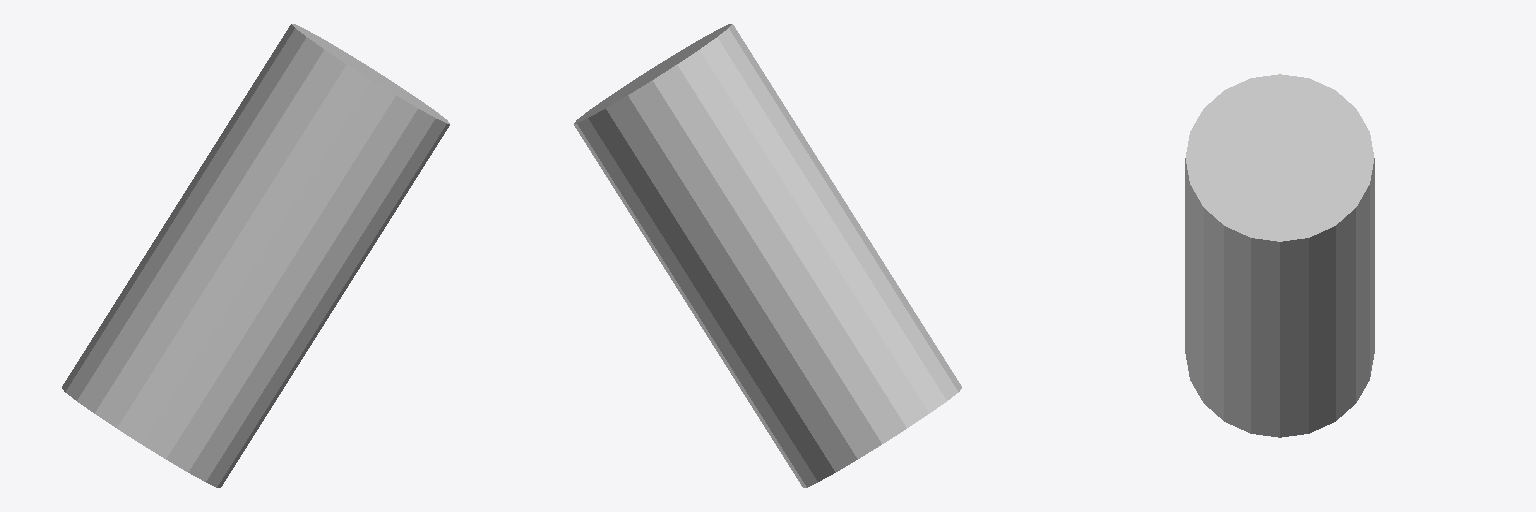
The model's file is player_Rarm_up.obj.
3 renders of one model, left to right at view 1: azimuth 30°, elevation 25°; view 2: azimuth 150°, elevation 25°; view 3: azimuth 270°, elevation 25°, orthographic.
Parts seen in each view (by area): view 1: pCylinder4 group2; view 2: pCylinder4 group2; view 3: pCylinder4 group2.
Part boxes in pixels (x1,y1,x2,y2): pCylinder4 group2: (62,24,449,487); pCylinder4 group2: (574,24,961,487); pCylinder4 group2: (1185,74,1374,437).
Size of the model in its own units: 1.65 by 1.82 by 0.7551.